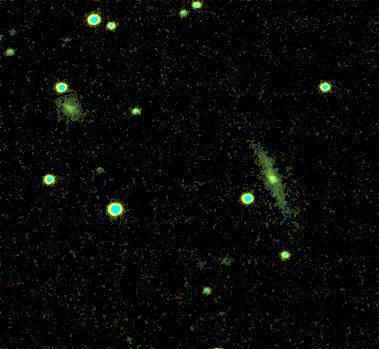star: (256, 167, 286, 197)
